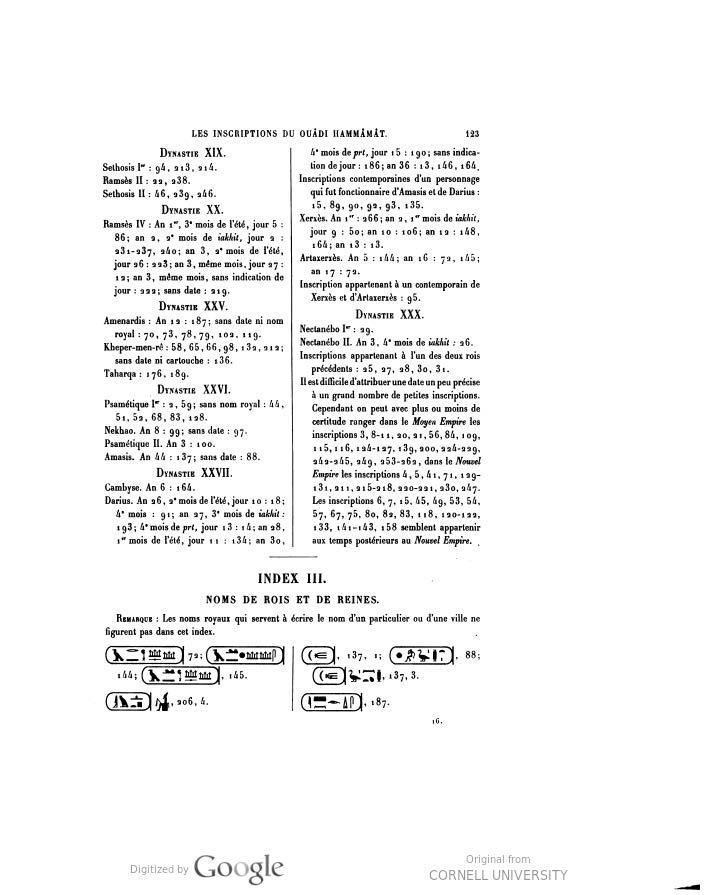circle: (382, 635, 467, 675), (297, 684, 374, 720), (139, 663, 225, 688), (106, 642, 188, 667), (201, 644, 290, 667), (104, 686, 155, 716), (297, 642, 344, 665), (310, 665, 351, 686)
